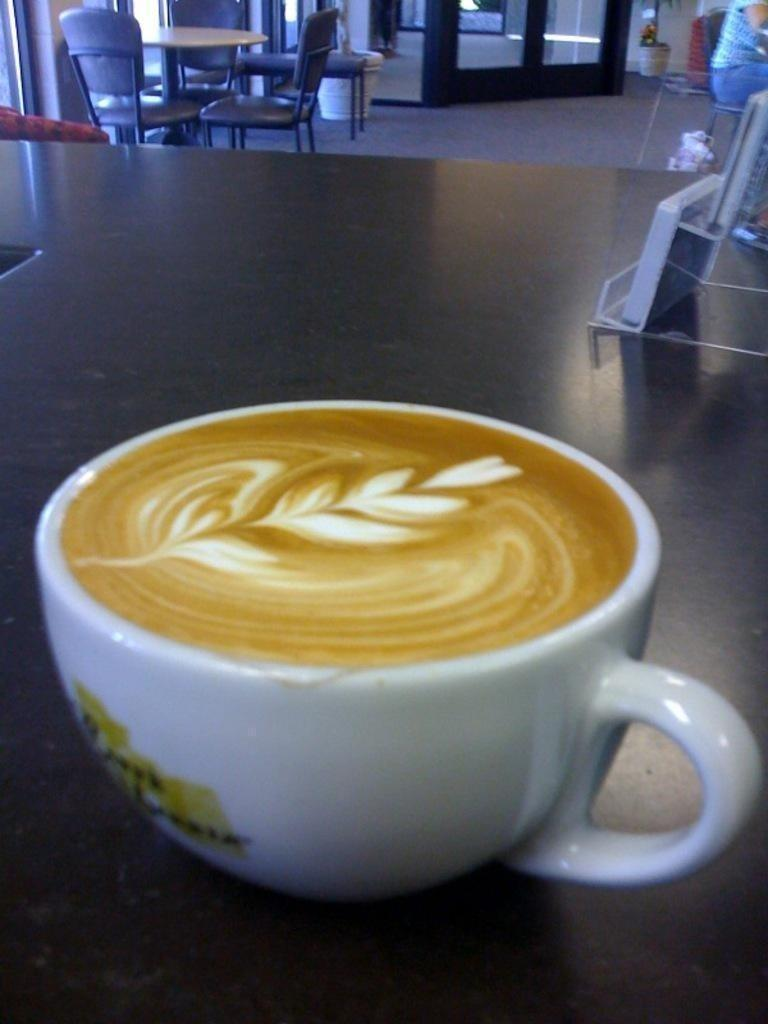cup-handle: (29, 397, 766, 909)
